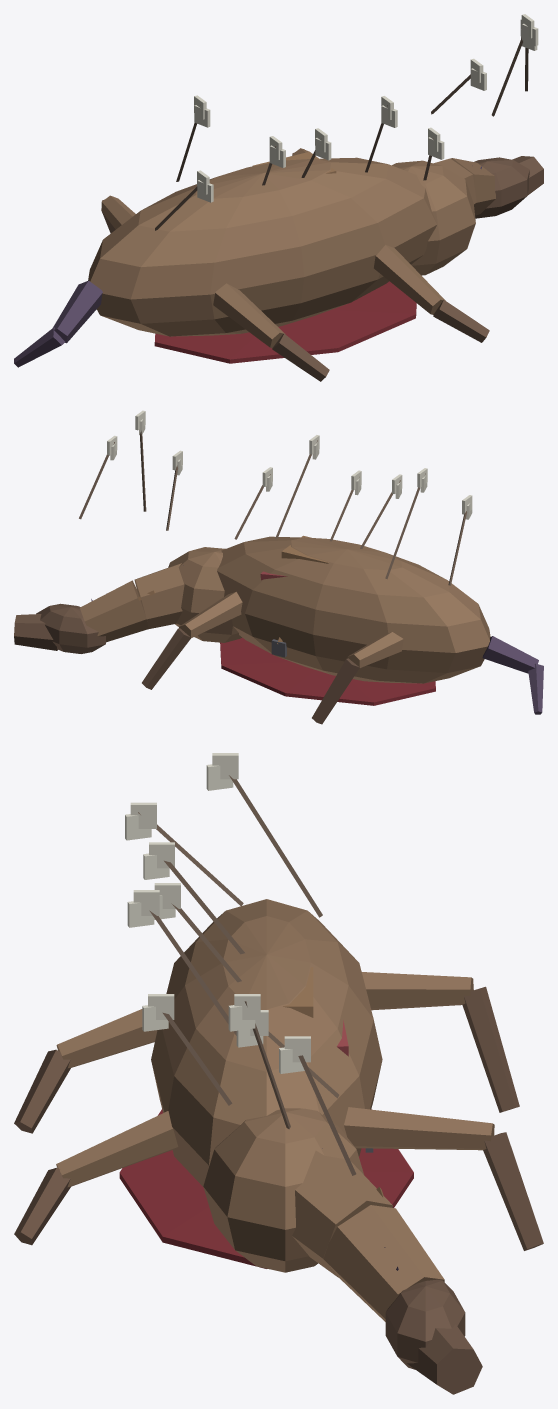
File: horse_dead.glb
3 renders of one model, top to bottom at view 1: azimuth 30°, elevation 25°; view 2: azimuth 150°, elevation 25°; view 3: azimuth 270°, elevation 25°, orthographic. The views are drawn at different scales.
Parts seen in each view (by area): view 1: horse_dead; view 2: horse_dead; view 3: horse_dead.
Boxes of the visible parts, <box> form: horse_dead: <box>14,14,543,381</box>; horse_dead: <box>14,410,543,724</box>; horse_dead: <box>14,753,543,1394</box>.
Bounding box in the file's own units: 5.12 × 2.13 × 2.84.
